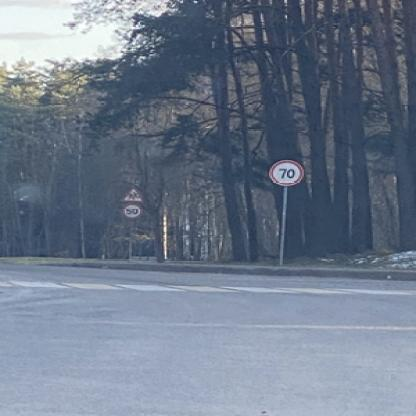Speed Limit 50: (123, 204, 142, 218)
Speed Limit 70: (272, 159, 304, 185)
